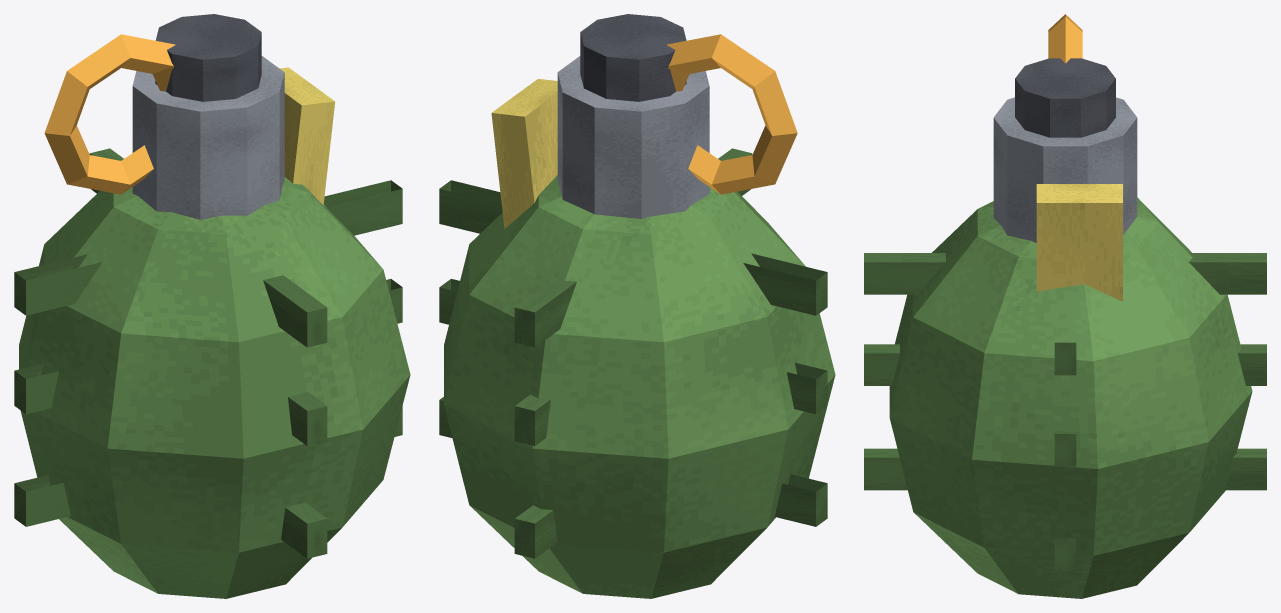
File: weapon_grenade.glb
The picture shows the model from 3 angles, left to right: view 1: azimuth 30°, elevation 25°; view 2: azimuth 150°, elevation 25°; view 3: azimuth 270°, elevation 25°; orthographic projection. The views are drawn at different scales.
Parts seen in each view (by area): view 1: weapon_grenade; view 2: weapon_grenade; view 3: weapon_grenade.
Part boxes in pixels (<box>): weapon_grenade: <box>14,14,410,598</box>; weapon_grenade: <box>439,14,835,598</box>; weapon_grenade: <box>864,14,1266,598</box>.
Bounding box in the file's own units: 0.56 × 0.813 × 0.56.
Materials: 1 (1 with a texture image).
